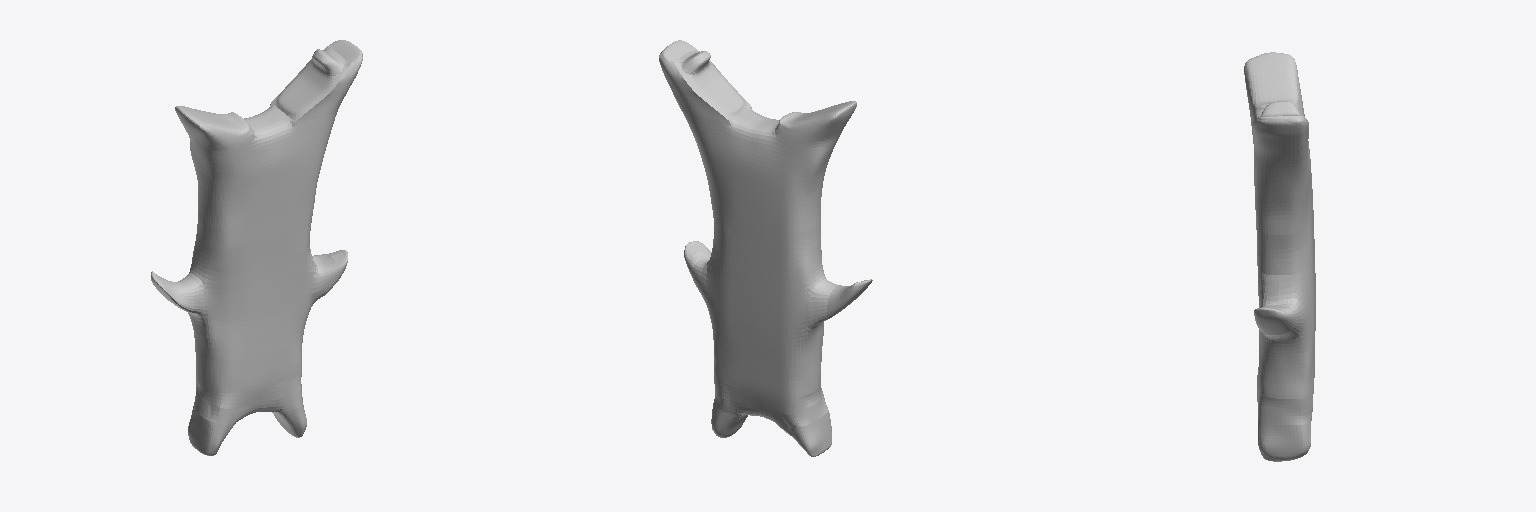
File: korok14.obj
3 views of the same model, side by side, from view 1: azimuth 30°, elevation 25°; view 2: azimuth 150°, elevation 25°; view 3: azimuth 270°, elevation 25° (orthographic).
Parts seen in each view (by area): view 1: Plane; view 2: Plane; view 3: Plane.
Boxes of the visible parts, <box> form: Plane: <box>151,40,362,455</box>; Plane: <box>659,40,872,456</box>; Plane: <box>1244,52,1315,461</box>.
Bounding box in the file's own units: 1.03 × 1.82 × 0.3163.